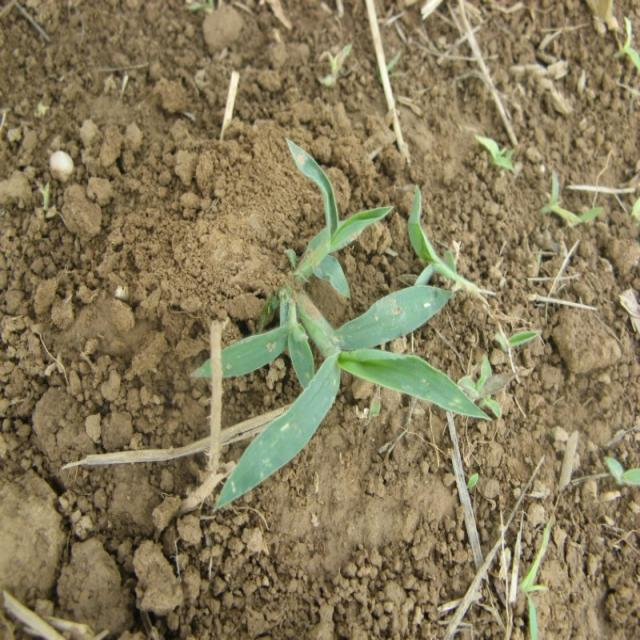bg: (199, 143, 490, 501)
